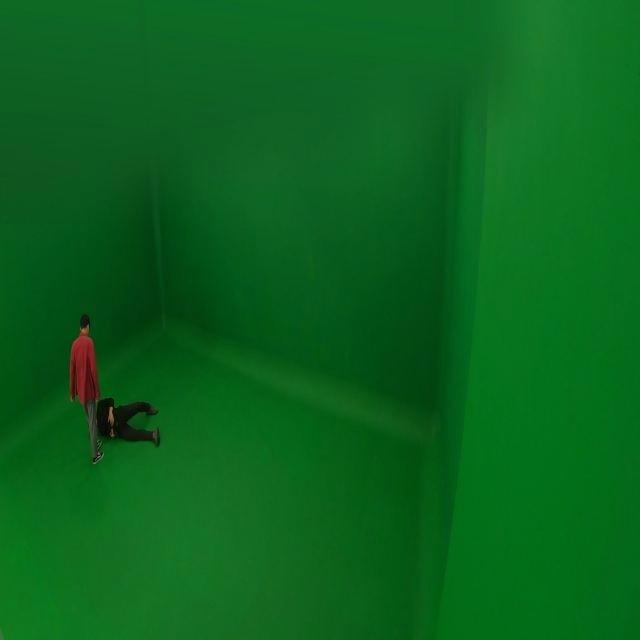fight: (68, 310, 163, 465)
